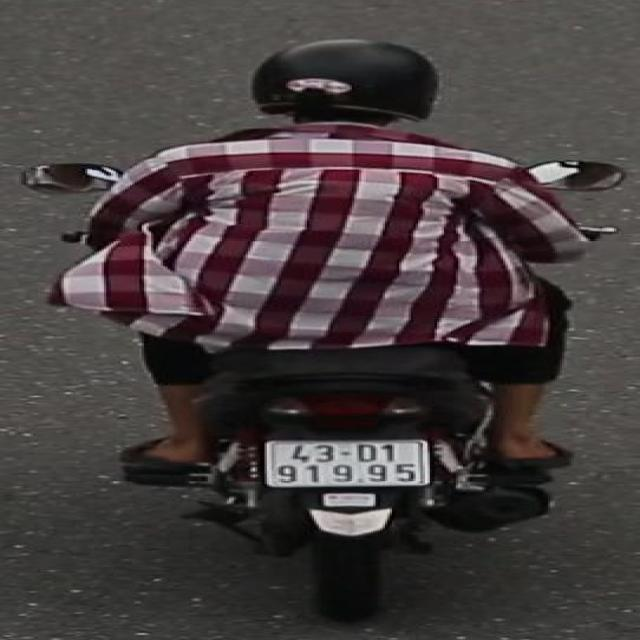LP: (258, 436, 436, 495)
helmet: (241, 34, 451, 133)
